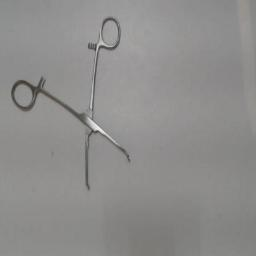Allis Tissue Forceps: (6, 10, 138, 198)
